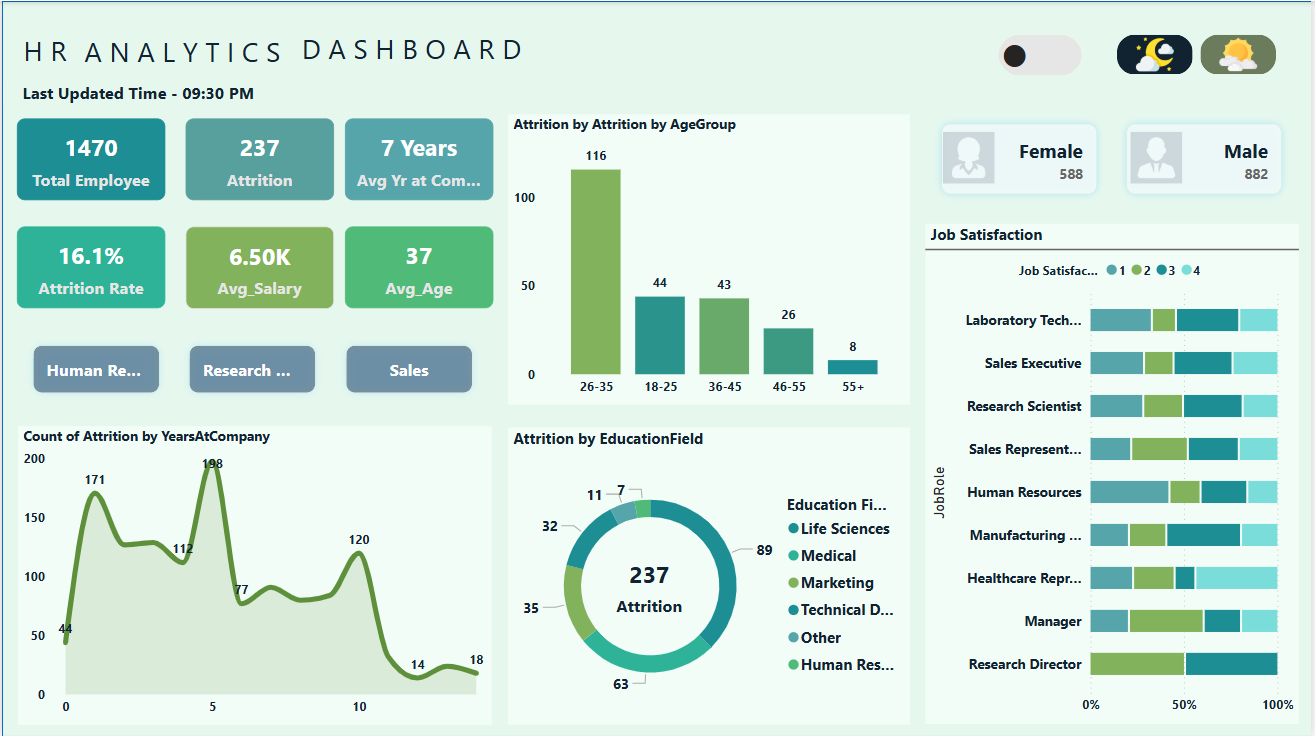

Layout of this report page (visuals, bound fields, positions):
{"tool":"powerbi","page":{"name":"Page 1","canvas":[1280,720],"ordinal":0},"visuals":[{"type":"shape","box":[0,0,1280.9,719.6],"z":0},{"type":"shape","box":[21.3,19.2,68.3,57.6],"z":0,"group":"g1"},{"type":"shape","box":[80.2,21.6,219.1,55.4],"z":1000,"group":"g1"},{"type":"image","box":[920.2,127.5,50,50],"z":1000},{"type":"shape","box":[292.8,17.6,269.3,58.1],"z":2000,"group":"g1"},{"type":"image","box":[1103.5,128.4,50,50],"z":2000},{"type":"card","fields":{"Values":["HR_Analytics.Employee_Attrition"]},"box":[179.3,115.3,145.1,80],"z":3000},{"type":"card","fields":{"Values":["HR_Analytics.Employee_Count"]},"box":[14.9,115.3,145.1,80],"z":4000},{"type":"card","fields":{"Values":["HR_Analytics.Years_With_Text"]},"box":[335.1,115.3,145,80],"z":5000},{"type":"card","fields":{"Values":["HR_Analytics.Attrition%"]},"box":[14.9,219.8,145.1,80],"z":6000},{"type":"card","fields":{"Values":["HR_Analytics.Avg_Salary"]},"box":[180,220.1,145,80.9],"z":7000},{"type":"card","fields":{"Values":["HR_Analytics.Avg_Age"]},"box":[335.1,219.8,145,80],"z":8000},{"type":"areaChart","fields":{"Y":["CountNonNull(HR_Analytics.Attrition)"],"Category":["HR_Analytics.YearsAtCompany"]},"box":[15.8,415.2,462.7,292.1],"z":9000},{"type":"donutChart","title":"Attrition by EducationField","fields":{"Y":["HR_Analytics.Employee_Attrition"],"Category":["HR_Analytics.EducationField"]},"box":[494.4,417,392.4,290.3],"z":10000},{"type":"clusteredColumnChart","title":"Attrition by Attrition by AgeGroup","fields":{"Category":["HR_Analytics.AgeGroup"],"Y":["HR_Analytics.Employee_Attrition"]},"box":[495.2,111,392.7,283.9],"z":11000},{"type":"hundredPercentStackedBarChart","title":"Job Satisfaction","fields":{"Y":["HR_Analytics.Employee_Attrition"],"Series":["HR_Analytics.JobSatisfaction"],"Category":["HR_Analytics.JobRole"]},"box":[902.9,217.7,365,488.8],"z":12000},{"type":"advancedSlicerVisual","fields":{"Values":["HR_Analytics.Gender"]},"box":[902.9,104.6,365,100.3],"z":13000},{"type":"advancedSlicerVisual","fields":{"Values":["HR_Analytics.Department"]},"box":[14.9,320.2,463.2,79],"z":14000},{"type":"advancedSlicerVisual","fields":{"Values":["Dark-Mode.Mode"]},"box":[1085.6,28.2,167.1,49.3],"z":15000},{"type":"group","id":"g1","title":"Group 1","box":[21.3,17.6,540.7,59.4],"z":16000},{"type":"card","fields":{"Values":["HR_Analytics.Employee_Attrition"]},"box":[584.8,537.9,96,69],"z":17000},{"type":"advancedSlicerVisual","fields":{"Values":["DarkMode_AutoSet.MODE"]},"box":[968.9,27.7,92.4,50.2],"z":18000},{"type":"card","fields":{"Values":["DarkMode_AutoSet.LastRefreshedTime"]},"box":[1.8,77.4,263.9,26.4],"z":19000}]}

Visuals, with their boxes in screenshot pixels (x1, y1, x2, y2), scaled from the page's 1280x720 canvas onto the 1315x736 screenshot:
shape: locate(0, 0, 1314, 735)
shape: locate(22, 20, 92, 79)
shape: locate(82, 22, 307, 79)
image: locate(945, 130, 997, 181)
shape: locate(301, 18, 577, 77)
image: locate(1134, 131, 1185, 182)
card - HR_Analytics.Employee_Attrition: locate(184, 118, 333, 200)
card - HR_Analytics.Employee_Count: locate(15, 118, 164, 200)
card - HR_Analytics.Years_With_Text: locate(344, 118, 493, 200)
card - HR_Analytics.Attrition%: locate(15, 225, 164, 306)
card - HR_Analytics.Avg_Salary: locate(185, 225, 334, 308)
card - HR_Analytics.Avg_Age: locate(344, 225, 493, 306)
areaChart - CountNonNull(HR_Analytics.Attrition) x HR_Analytics.YearsAtCompany: locate(16, 424, 492, 723)
"Attrition by EducationField" donutChart: locate(508, 426, 911, 723)
"Attrition by Attrition by AgeGroup" clusteredColumnChart: locate(509, 113, 912, 404)
"Job Satisfaction" hundredPercentStackedBarChart: locate(928, 223, 1303, 722)
advancedSlicerVisual - HR_Analytics.Gender: locate(928, 107, 1303, 209)
advancedSlicerVisual - HR_Analytics.Department: locate(15, 327, 491, 408)
advancedSlicerVisual - Dark-Mode.Mode: locate(1115, 29, 1287, 79)
"Group 1" group: locate(22, 18, 577, 79)
card - HR_Analytics.Employee_Attrition: locate(601, 550, 699, 620)
advancedSlicerVisual - DarkMode_AutoSet.MODE: locate(995, 28, 1090, 80)
card - DarkMode_AutoSet.LastRefreshedTime: locate(2, 79, 273, 106)
